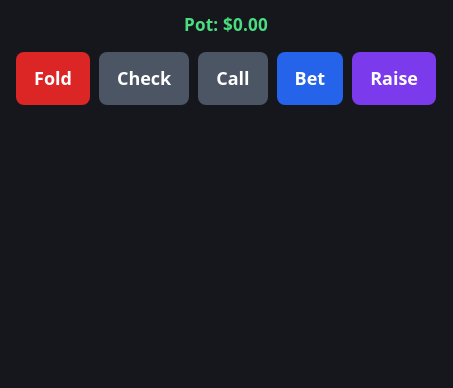
PlayerActionButtons — All In via ChipPicker › All In button appears in ChipPicker when Bet is clicked
Click the button with test id "action-bet". click: (310, 78)
box: [277,52,343,105]
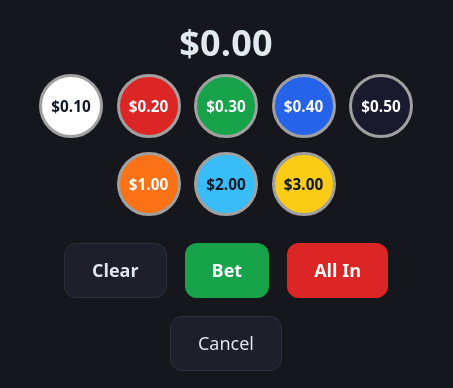
Expected: the button with test id "chip-all-in" reads "All In", [287,243,388,298]
